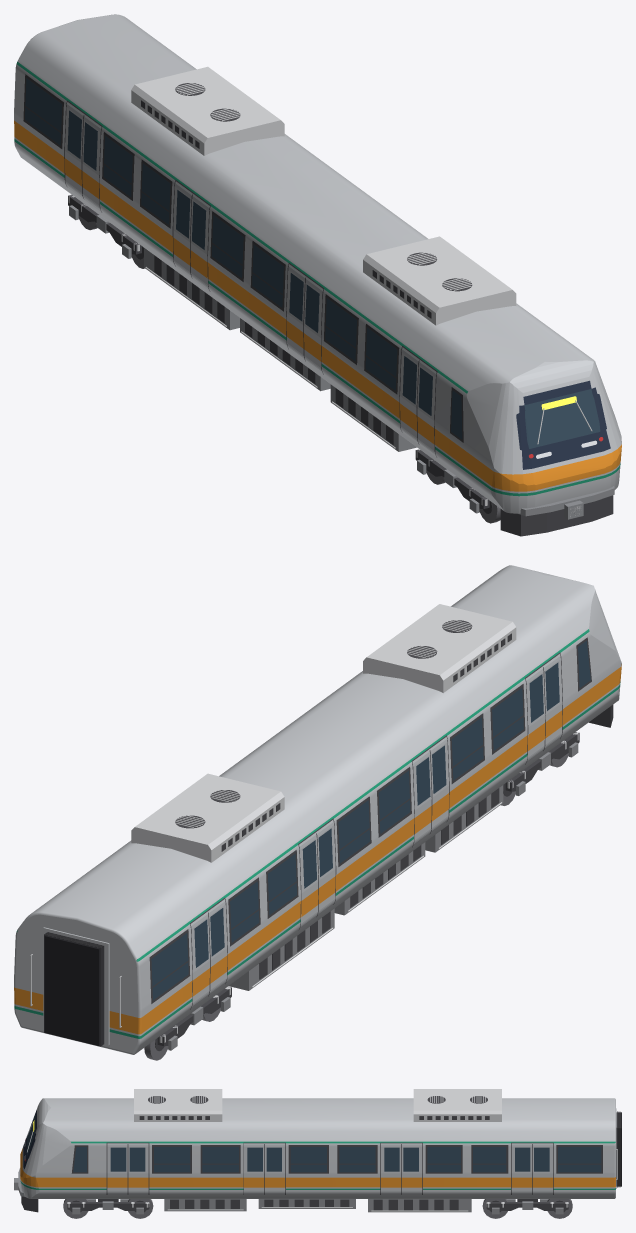
The model's file is 4_close.fbx.
3 renders of one model, top to bottom at view 1: azimuth 30°, elevation 25°; view 2: azimuth 150°, elevation 25°; view 3: azimuth 270°, elevation 25°, orthographic. The views are drawn at different scales.
Visible parts, largest first — view 1: 20_4_close; view 2: 20_4_close; view 3: 20_4_close.
Boxes of the visible parts, left/top/right/bottom form: 20_4_close: left=14, top=14, right=621, bottom=536; 20_4_close: left=14, top=565, right=621, bottom=1060; 20_4_close: left=14, top=1089, right=621, bottom=1218.
Size of the model in its own units: 2.95 by 3.93 by 20.
